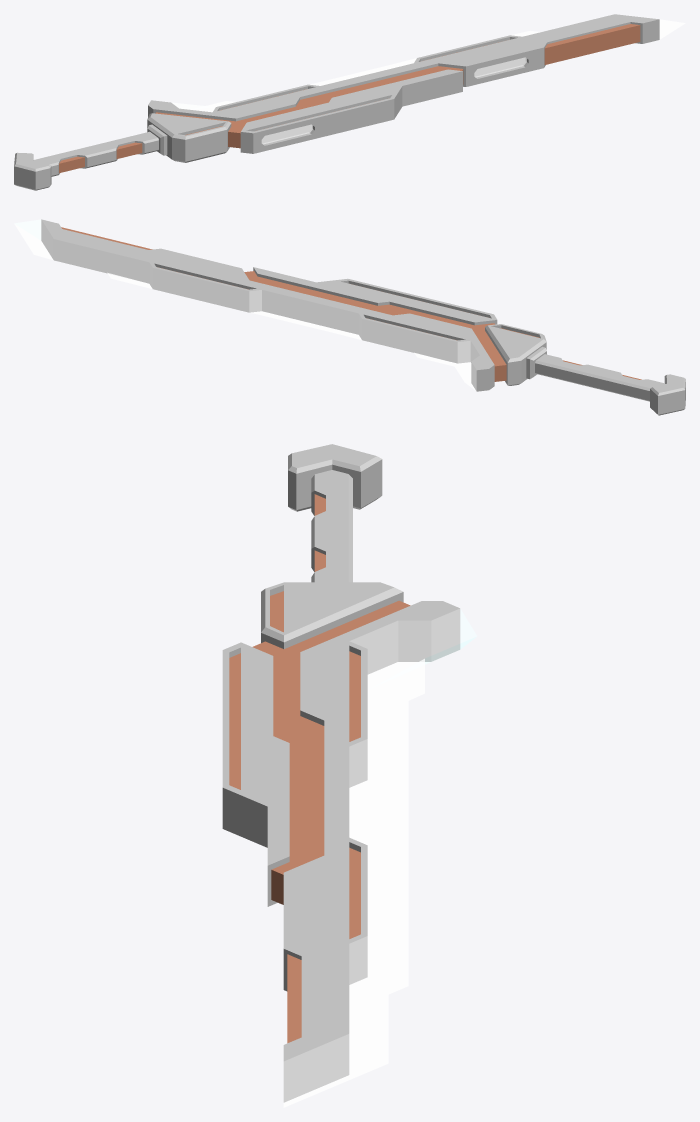
The model's file is weap3_sword.fbx.
3 views of the same model, one above another, from view 1: azimuth 30°, elevation 25°; view 2: azimuth 150°, elevation 25°; view 3: azimuth 270°, elevation 25° (orthographic). The views are drawn at different scales.
Visible parts, largest first — view 1: weap3_sword; view 2: weap3_sword; view 3: weap3_sword.
Boxes of the visible parts, x1=… form: weap3_sword: x1=14, y1=14, x2=685, y2=190; weap3_sword: x1=14, y1=219, x2=685, y2=415; weap3_sword: x1=222, y1=444, x2=477, y2=1107.
Bounding box in the file's own units: 114 × 4.36 × 19.04.
